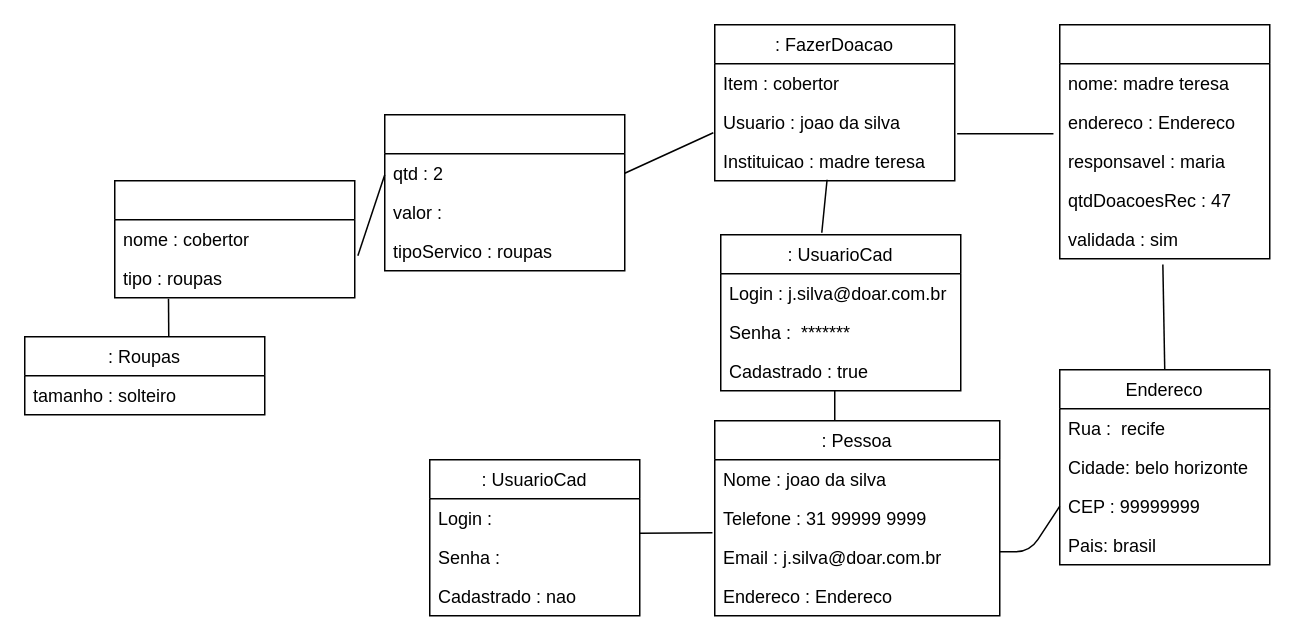
Some shapes in this 1295 by 641 pixel diagram are drawn without their labels. Each missing label, with the box of its shape:
: Instituicao: (1058, 23, 1270, 259)
: ItemDoacao: (383, 113, 625, 271)
: Itens: (113, 179, 355, 298)
